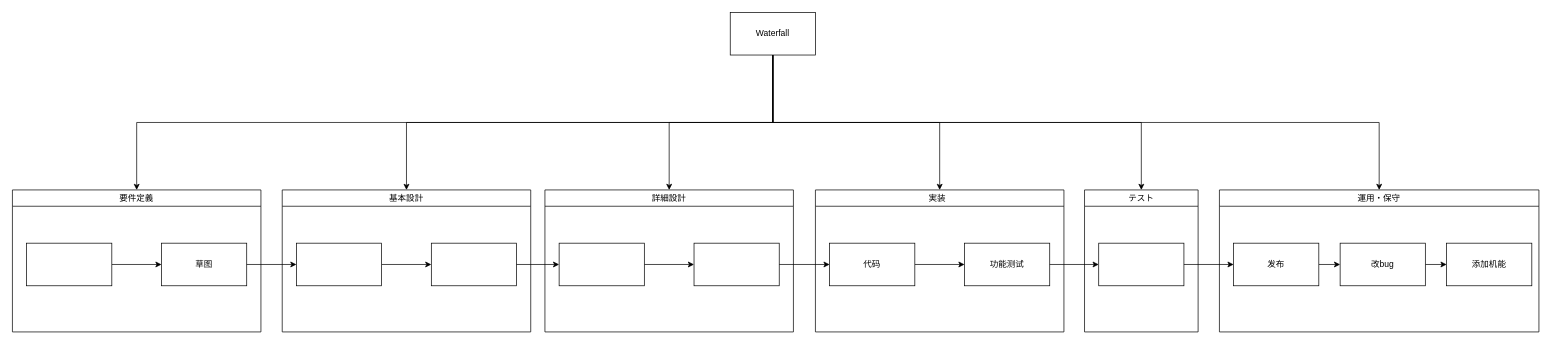
This 1551x344 diagram has some shape labels left out. Here are the shapes that lost their labels. From the top down, the centre of each, then its label:
At (x=69, y=264): "打ち合わせ".
At (x=339, y=264): "梳理功能".
At (x=474, y=264): "功能列表".
At (x=601, y=264): "function定义".
At (x=736, y=264): "伪代码".
At (x=1141, y=264): "结合测试".
